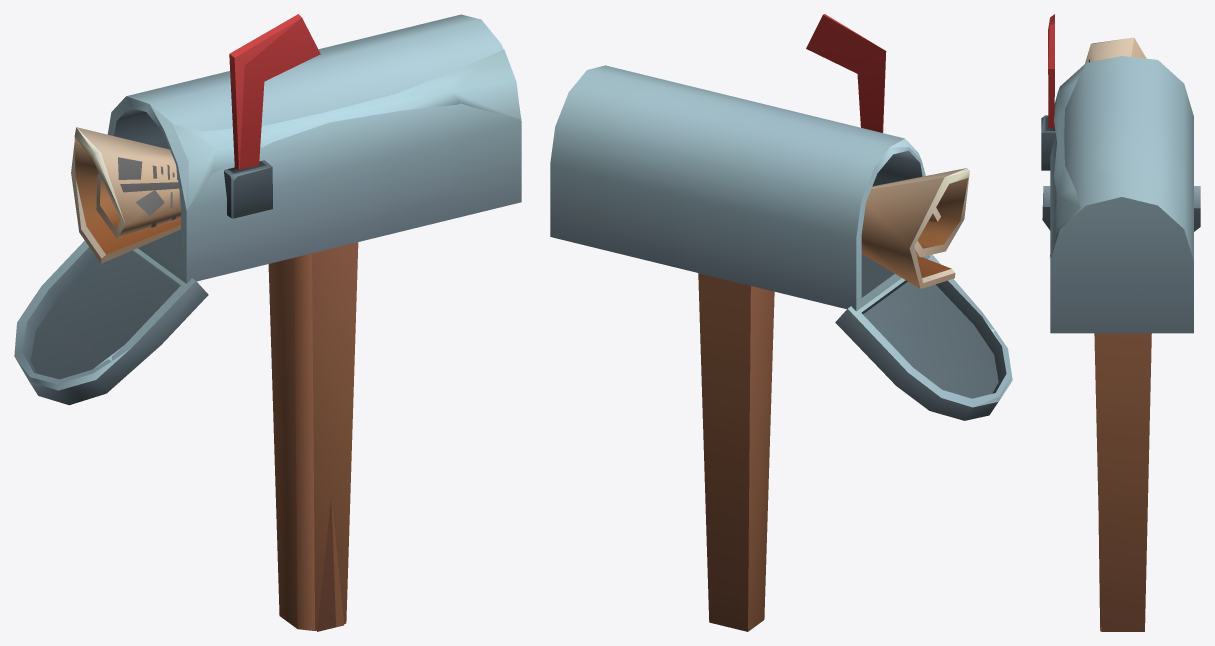
The model's file is mailbox.glb.
3 renders of one model, left to right at view 1: azimuth 30°, elevation 25°; view 2: azimuth 150°, elevation 25°; view 3: azimuth 270°, elevation 25°, orthographic. The views are drawn at different scales.
Parts seen in each view (by area): view 1: mailbox, Cube.009, Spiral; view 2: mailbox, Cube.009, Spiral; view 3: mailbox, Spiral, Cube.009.
Part boxes in pixels (x1,y1,x2,y2): mailbox: (107,14,521,631); Cube.009: (14,240,208,405); Spiral: (71,127,180,263); mailbox: (550,14,929,631); Cube.009: (835,254,1012,420); Spiral: (861,168,969,288); mailbox: (1041,14,1193,631); Spiral: (1085,37,1146,63); Cube.009: (1042,186,1200,231).
Size of the model in its own units: 0.6731 by 0.9231 by 0.2313.
Materials: 1 (1 with a texture image).
